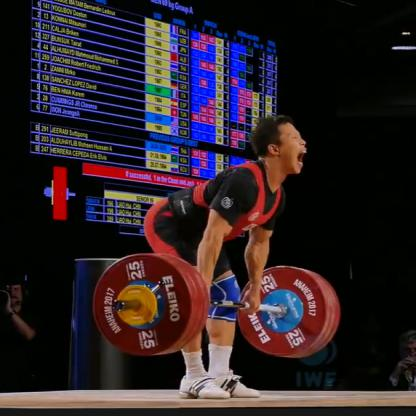Barbell: (86, 232, 210, 360)
